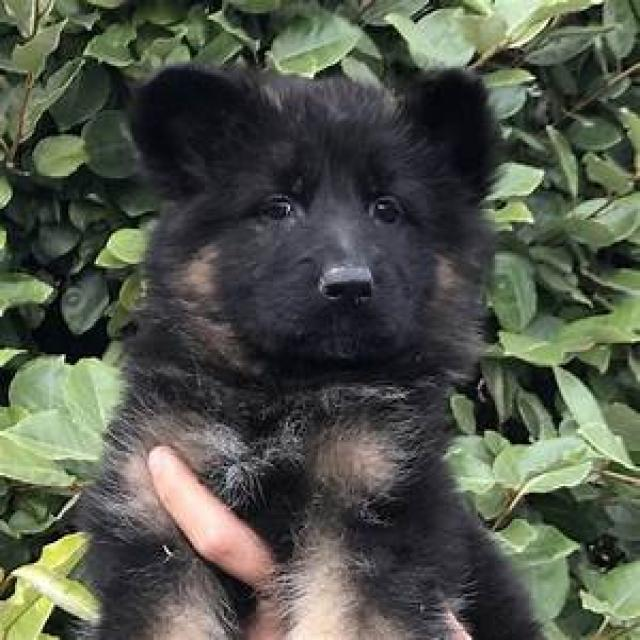KOPEK: (86, 47, 554, 640)
